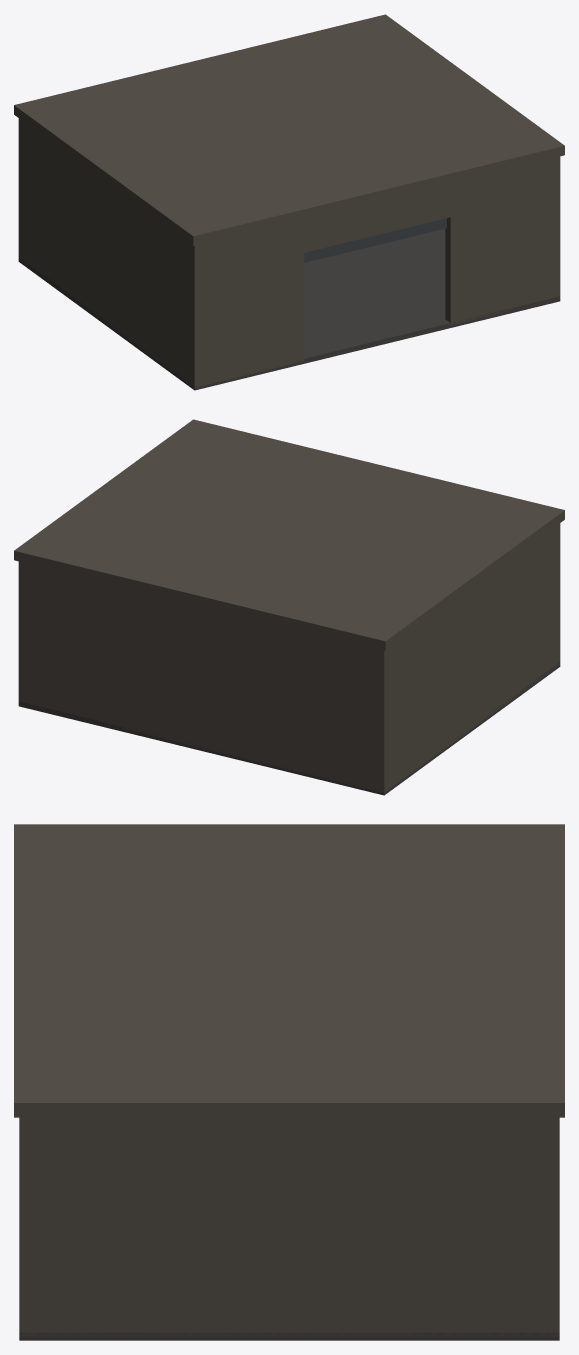
Rendered from SM_LA_Bldg_GarageM01.glb.
3 views of the same model, one above another, from view 1: azimuth 30°, elevation 25°; view 2: azimuth 150°, elevation 25°; view 3: azimuth 270°, elevation 25° (orthographic). The views are drawn at different scales.
Visible parts, largest first — view 1: SM_LA_Bldg_GarageM01_Mesh; view 2: SM_LA_Bldg_GarageM01_Mesh; view 3: SM_LA_Bldg_GarageM01_Mesh.
Part boxes in pixels (box(x1,y1,x2,y2)): SM_LA_Bldg_GarageM01_Mesh: box(14, 14, 564, 390); SM_LA_Bldg_GarageM01_Mesh: box(14, 419, 564, 795); SM_LA_Bldg_GarageM01_Mesh: box(14, 824, 564, 1340).
Size of what is drawn, in the model's own units: 12.2 by 4.9 by 10.2.
Materials: 4 (3 with a texture image).
